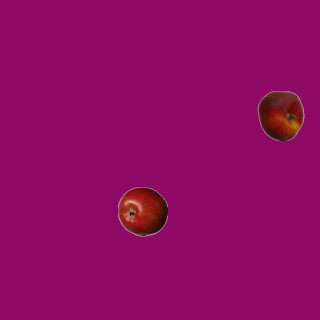Apple Braeburn: (117, 186, 167, 236)
Nectarine Flat: (255, 90, 305, 140)
